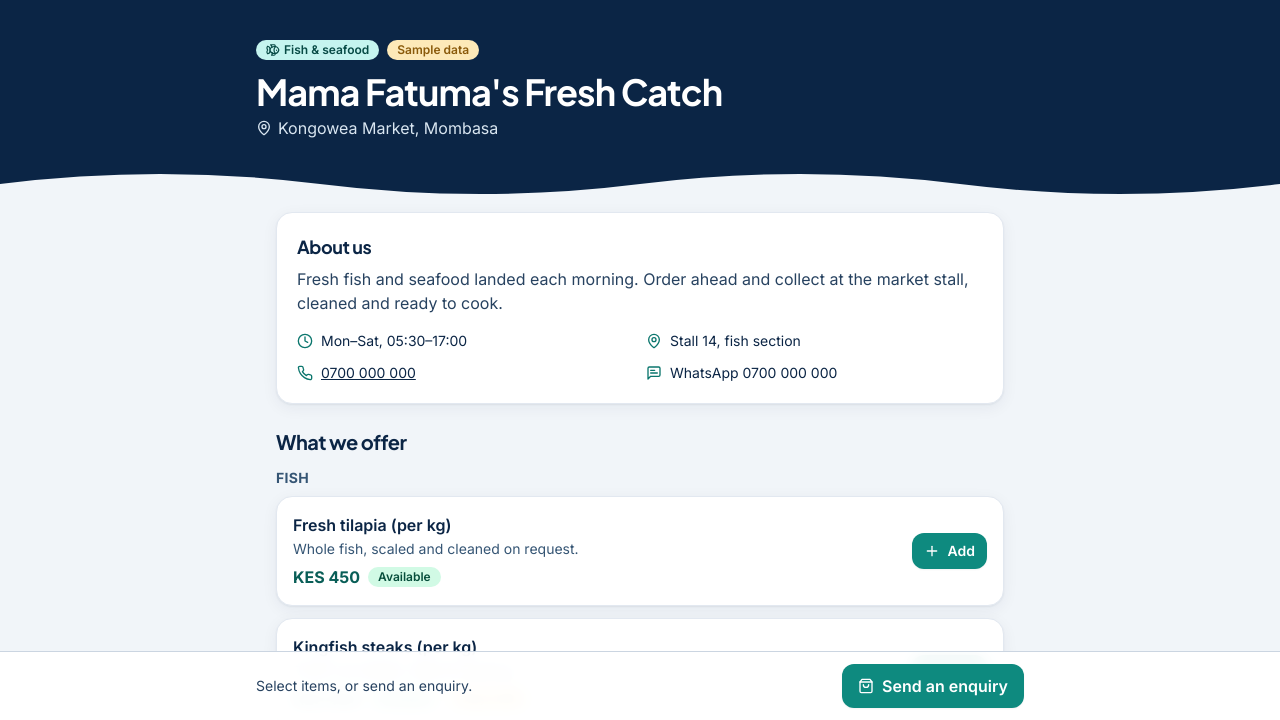
Test: customer flow › shows validation errors instead of submitting an incomplete request
Click the button "Send an enquiry". click: (933, 686)
box: top-left (842, 664), bottom-right (1024, 708)
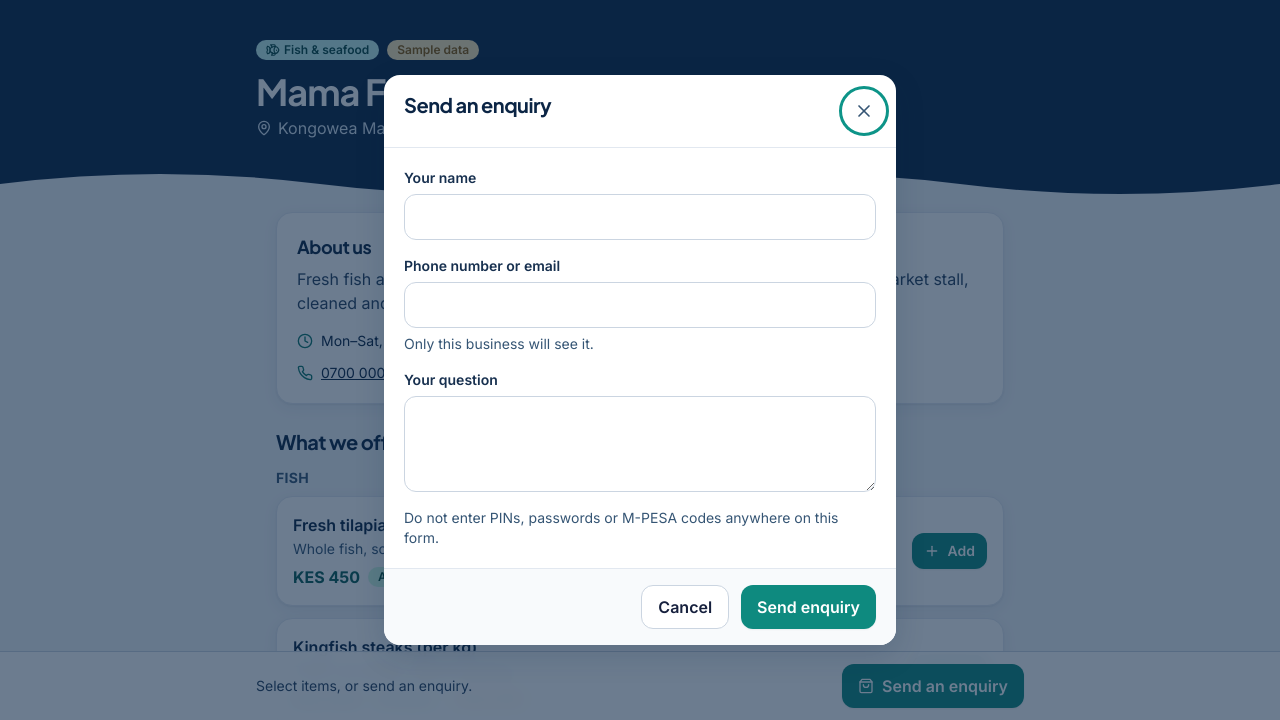
Click the button "Send enquiry". click: (809, 607)
box: top-left (741, 585), bottom-right (876, 629)
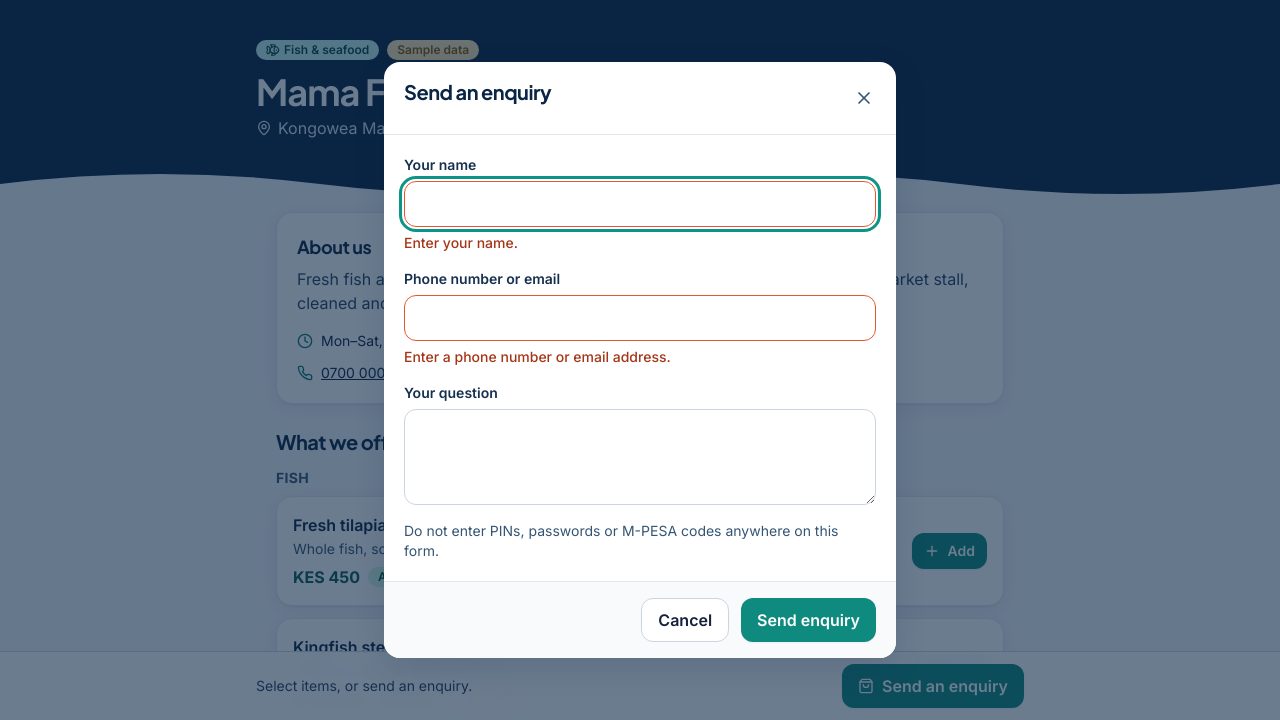
Now the text "Enter your name." is shown, box top-left (404, 234), bottom-right (518, 251)
